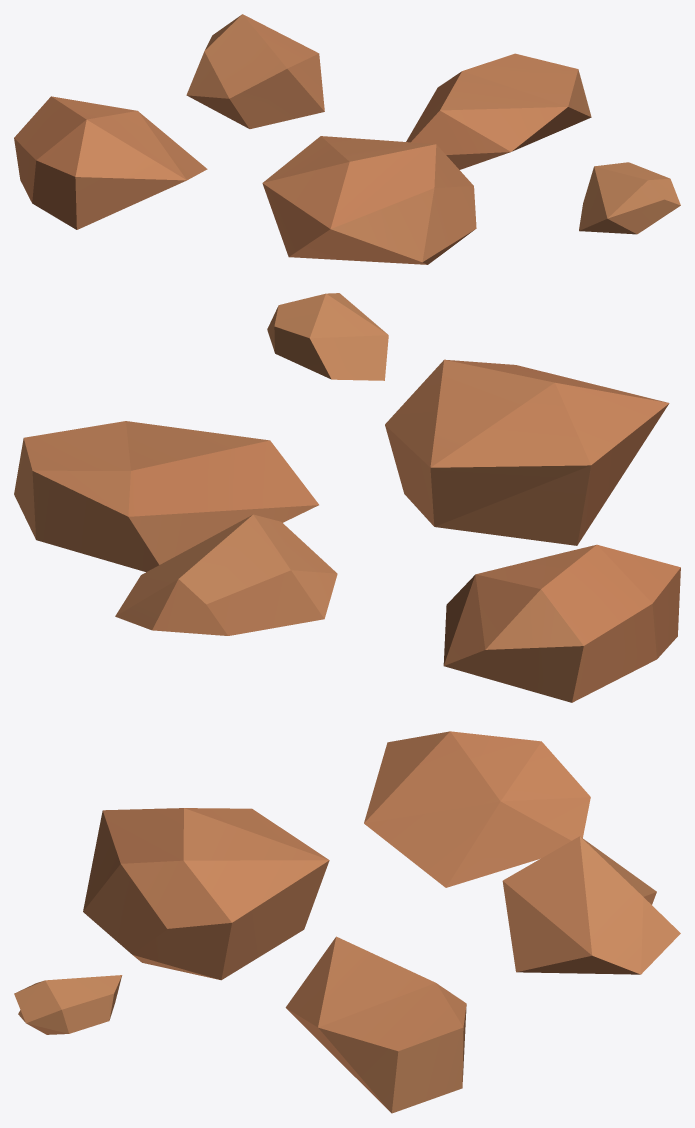
File: rocks.fbx
The picture shows the model from 3 angles, top to bottom: view 1: azimuth 30°, elevation 25°; view 2: azimuth 150°, elevation 25°; view 3: azimuth 270°, elevation 25°; orthographic projection. The views are drawn at different scales.
Parts seen in each view (by area): view 1: rocks-small; view 2: rocks-small; view 3: rocks-small.
Part boxes in pixels (box(x1,y1,x2,y2)): rocks-small: box(14, 14, 680, 264); rocks-small: box(14, 293, 680, 702); rocks-small: box(14, 731, 680, 1113).
Bounding box in the file's own units: 111 × 24.15 × 105.
Materials: 1 (1 with a texture image).
